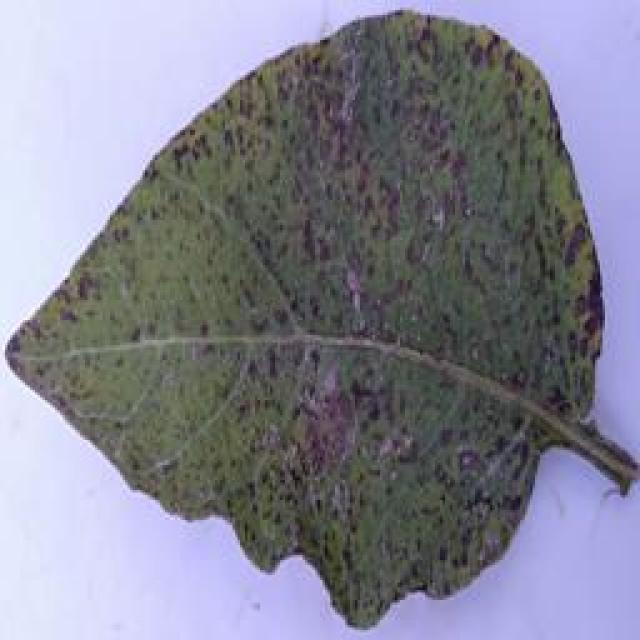Potato_Early_Blight: (2, 7, 634, 636)
